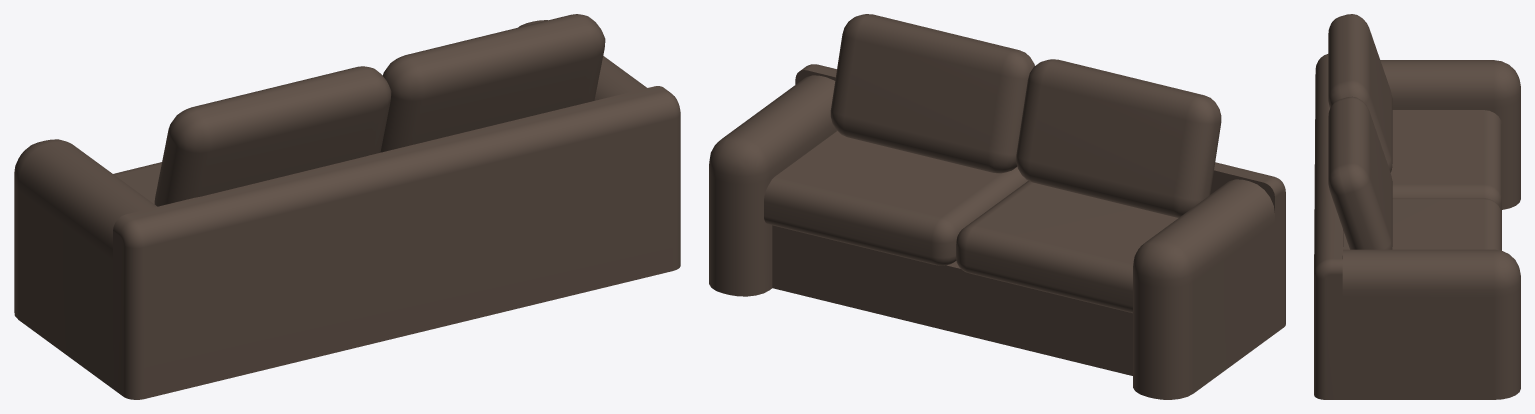
The model's file is Canape2_5.fbx.
3 views of the same model, side by side, from view 1: azimuth 30°, elevation 25°; view 2: azimuth 150°, elevation 25°; view 3: azimuth 270°, elevation 25° (orthographic). The views are drawn at different scales.
Parts seen in each view (by area): view 1: pCube1068, pCube2538, pCube2535, pCube2534, pCube2533, pCube2523; view 2: pCube2538, pCube2535, pCube2534, pCube2539, pCube2522, pCube2523, pCube2533, pCube1068; view 3: pCube2533, pCube2523, pCube2538, pCube2534, pCube1068, pCube2522, pCube2535.
Boxes of the visible parts, <box> form: pCube1068: <box>113,86,680,399</box>; pCube2538: <box>14,139,157,388</box>; pCube2535: <box>154,66,391,206</box>; pCube2534: <box>380,14,605,152</box>; pCube2533: <box>518,20,646,100</box>; pCube2523: <box>113,162,161,203</box>; pCube2538: <box>1133,179,1274,399</box>; pCube2535: <box>1016,59,1221,217</box>; pCube2534: <box>830,14,1034,173</box>; pCube2539: <box>772,225,1132,375</box>; pCube2522: <box>764,131,1027,265</box>; pCube2523: <box>956,180,1178,313</box>; pCube2533: <box>709,75,836,296</box>; pCube1068: <box>795,64,1285,333</box>; pCube2533: <box>1342,249,1520,399</box>; pCube2523: <box>1390,110,1501,213</box>; pCube2538: <box>1380,60,1520,209</box>; pCube2534: <box>1328,96,1392,249</box>; pCube1068: <box>1314,54,1343,399</box>; pCube2522: <box>1343,198,1501,250</box>; pCube2535: <box>1328,14,1392,172</box>.
Size of the model in its own units: 167 by 73.88 by 68.22.
